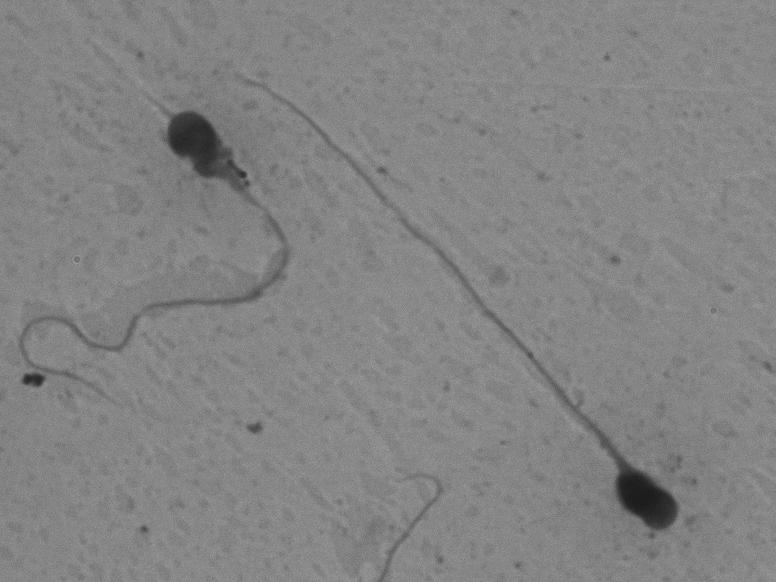Abnormal: (203, 54, 703, 548), (12, 97, 306, 437)
